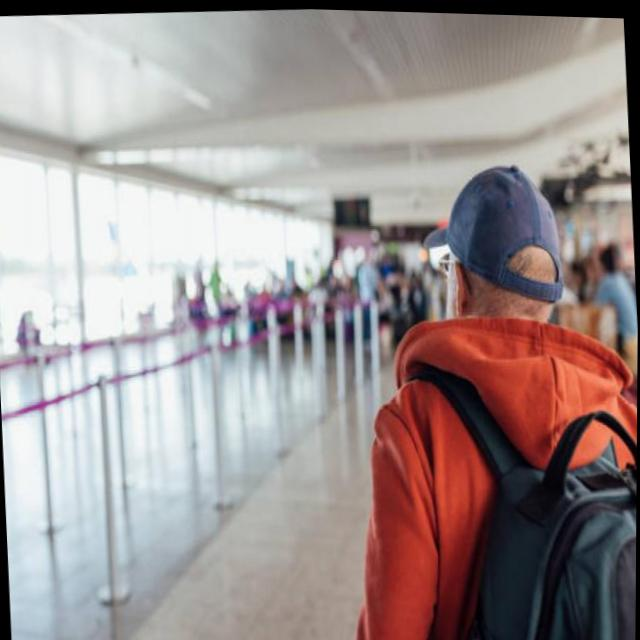no helmet: (402, 152, 577, 353)
